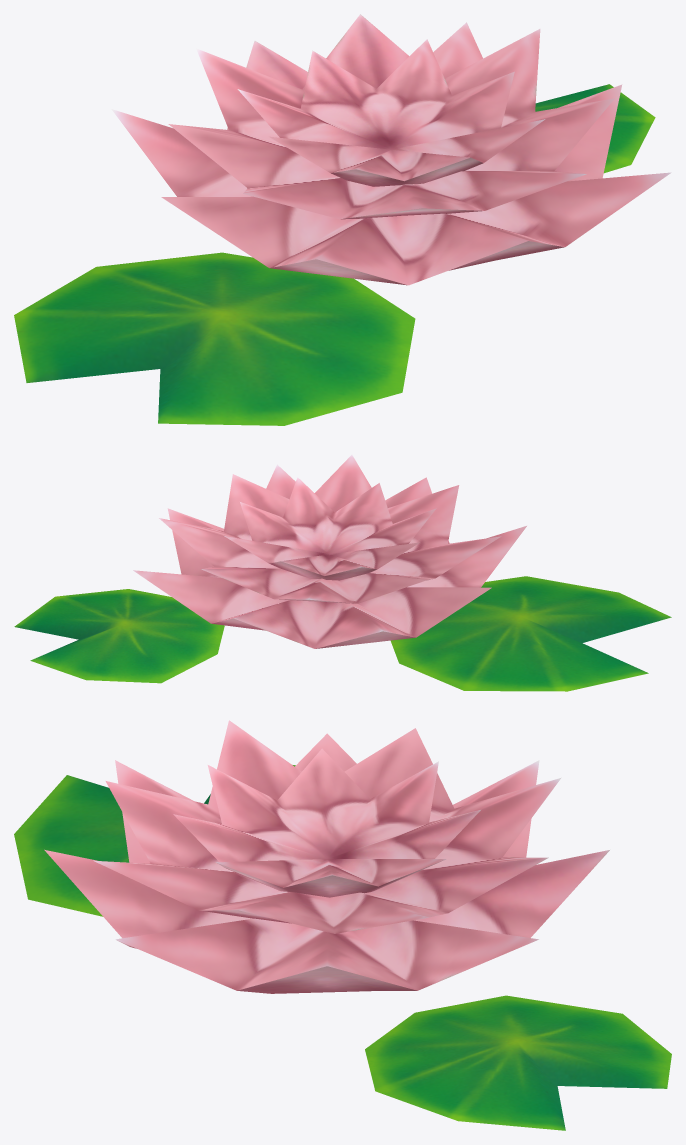
File: hasu.fbx
3 renders of one model, top to bottom at view 1: azimuth 30°, elevation 25°; view 2: azimuth 150°, elevation 25°; view 3: azimuth 270°, elevation 25°, orthographic. The views are drawn at different scales.
Parts seen in each view (by area): view 1: hasu; view 2: hasu; view 3: hasu.
Boxes of the visible parts, x1,y1,x2,y2 form: hasu: (14,14,671,425); hasu: (14,455,671,691); hasu: (14,720,671,1130).
Bounding box in the file's own units: 8.4 × 1.67 × 6.24.
Materials: 1 (1 with a texture image).
